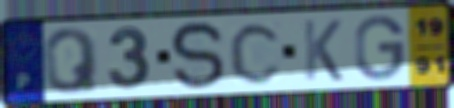3: (106, 24, 152, 94)
C: (227, 20, 285, 87)
G: (353, 13, 408, 83)
K: (300, 18, 345, 83)
Q: (42, 26, 102, 97)
S: (168, 19, 228, 93)
